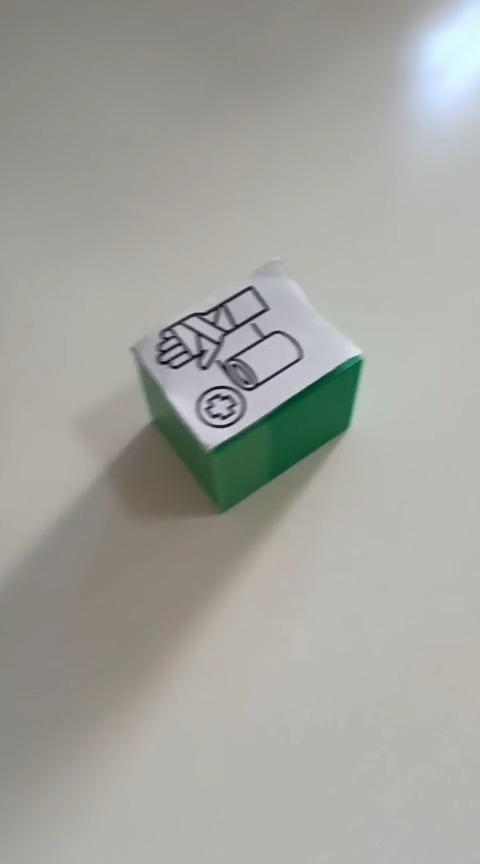Bandages: (128, 256, 365, 514)
